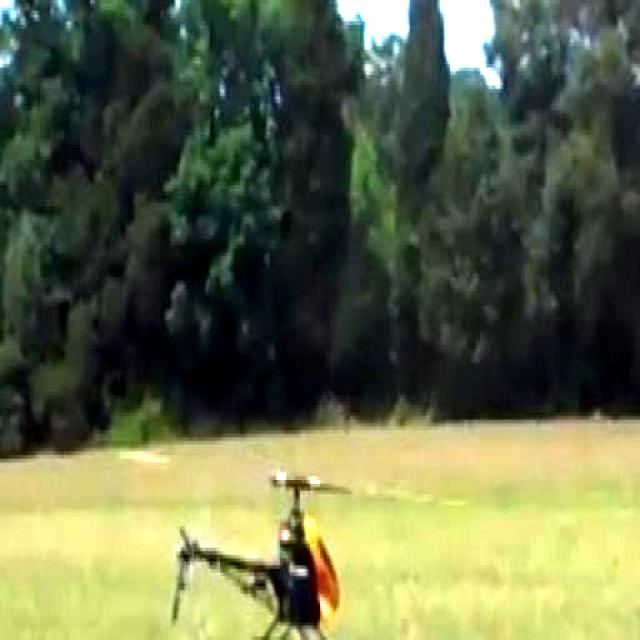drone: (102, 440, 475, 640)
